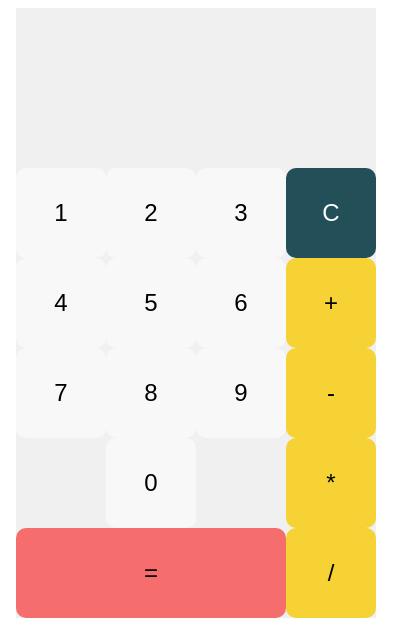
Test: Navigation component testing › Number Buttons › when clicked value is added to calculation
Click the button with class "number-button" showing "1".
click(61, 213)  # box [16,168,106,258]
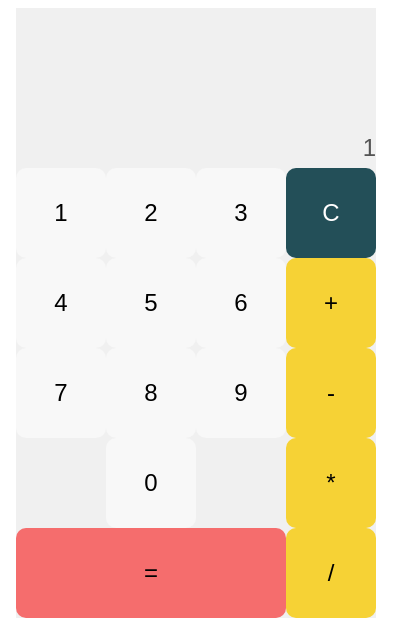
Check: the text with class "calculation" reads "1", box [363,134,376,161]
